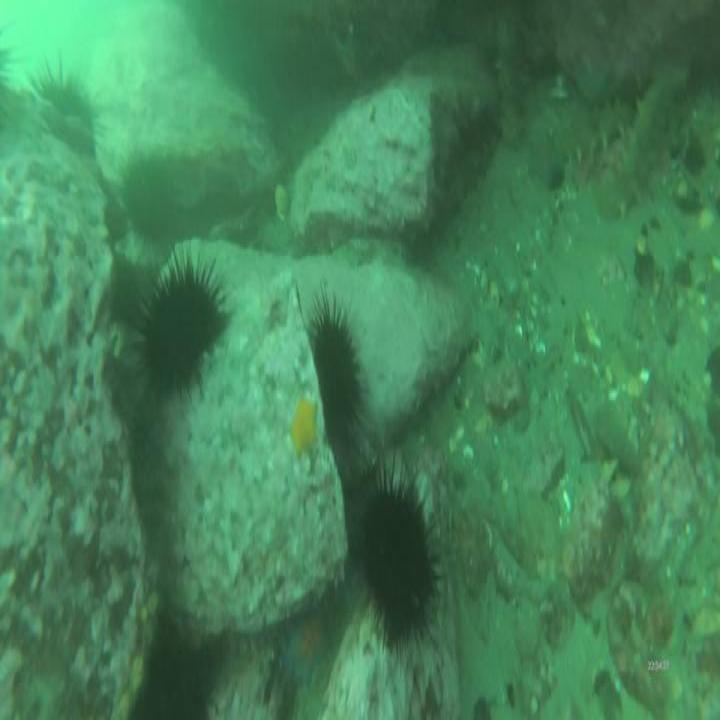echinus: (361, 476, 437, 640), (141, 268, 219, 378), (320, 306, 363, 439), (122, 156, 170, 229), (32, 68, 99, 115)
holothurian: (602, 55, 680, 213), (551, 105, 631, 158), (497, 14, 525, 144)
scallop: (274, 180, 289, 221)
starfish: (288, 615, 332, 677), (288, 395, 321, 455)
